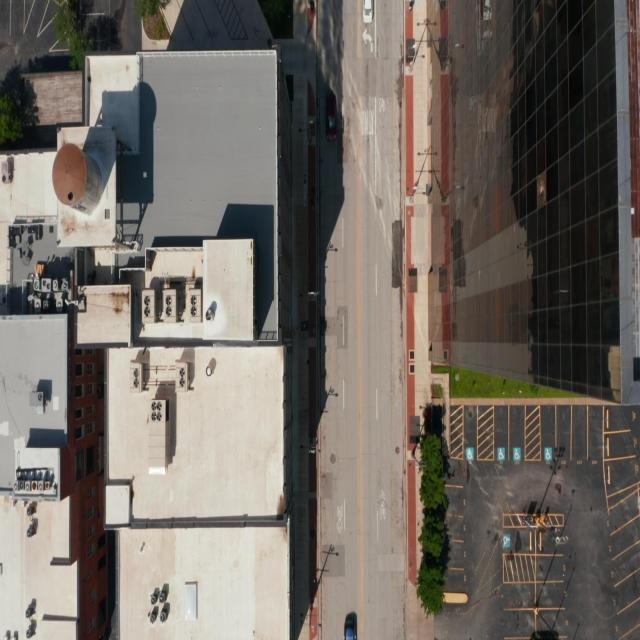Car: (326, 93, 337, 142), (362, 0, 373, 24), (344, 618, 356, 640)
